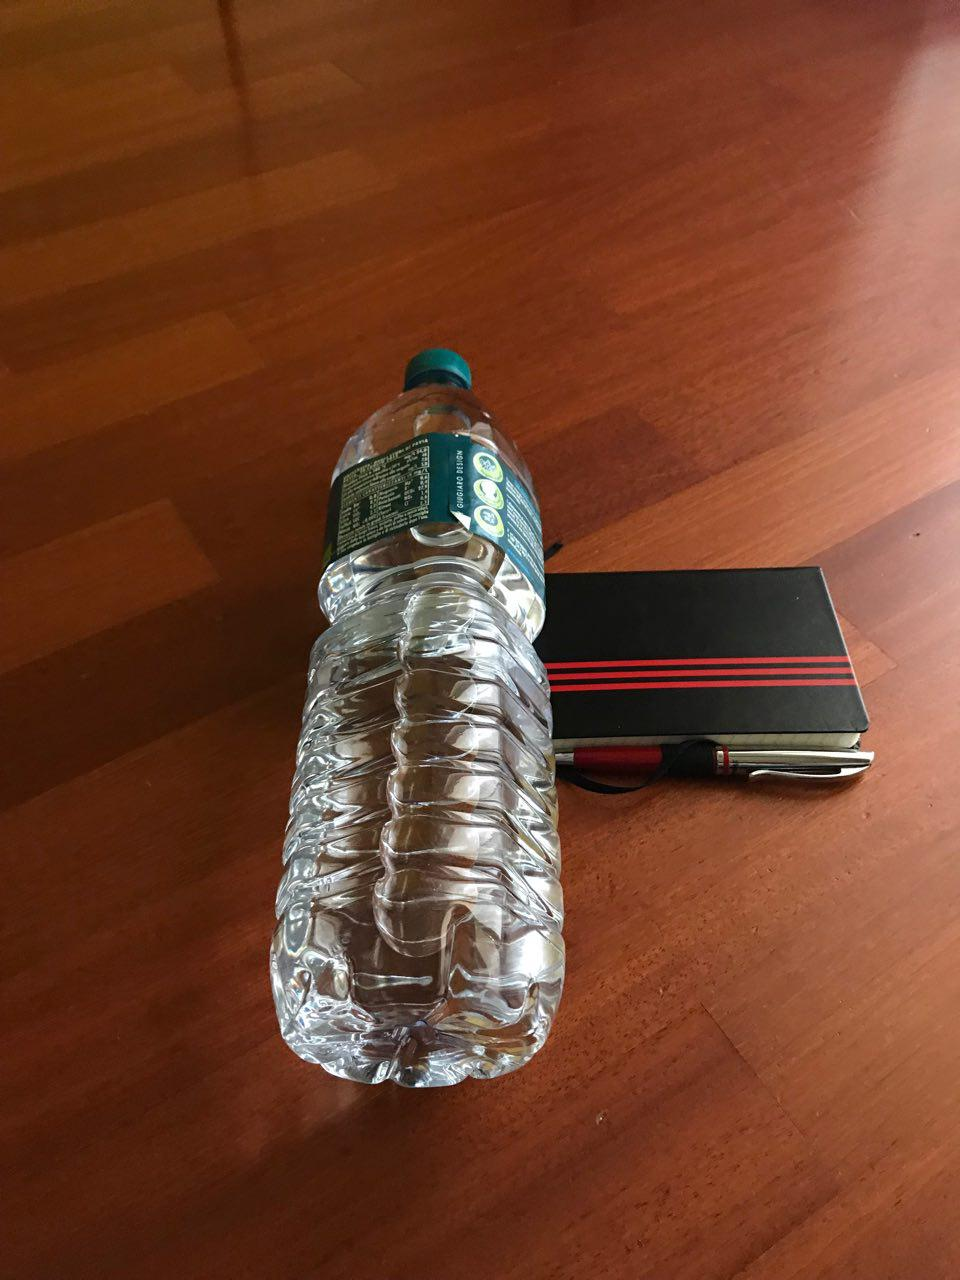san_bernardo: (266, 345, 569, 1092)
